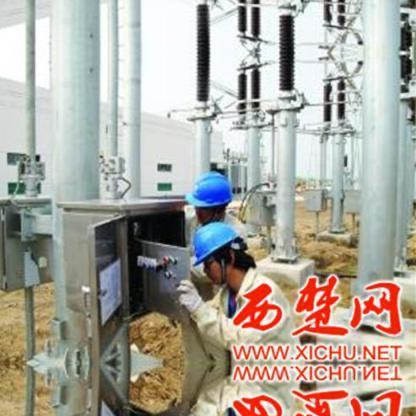helmet: (183, 221, 243, 273), (180, 169, 233, 211)
